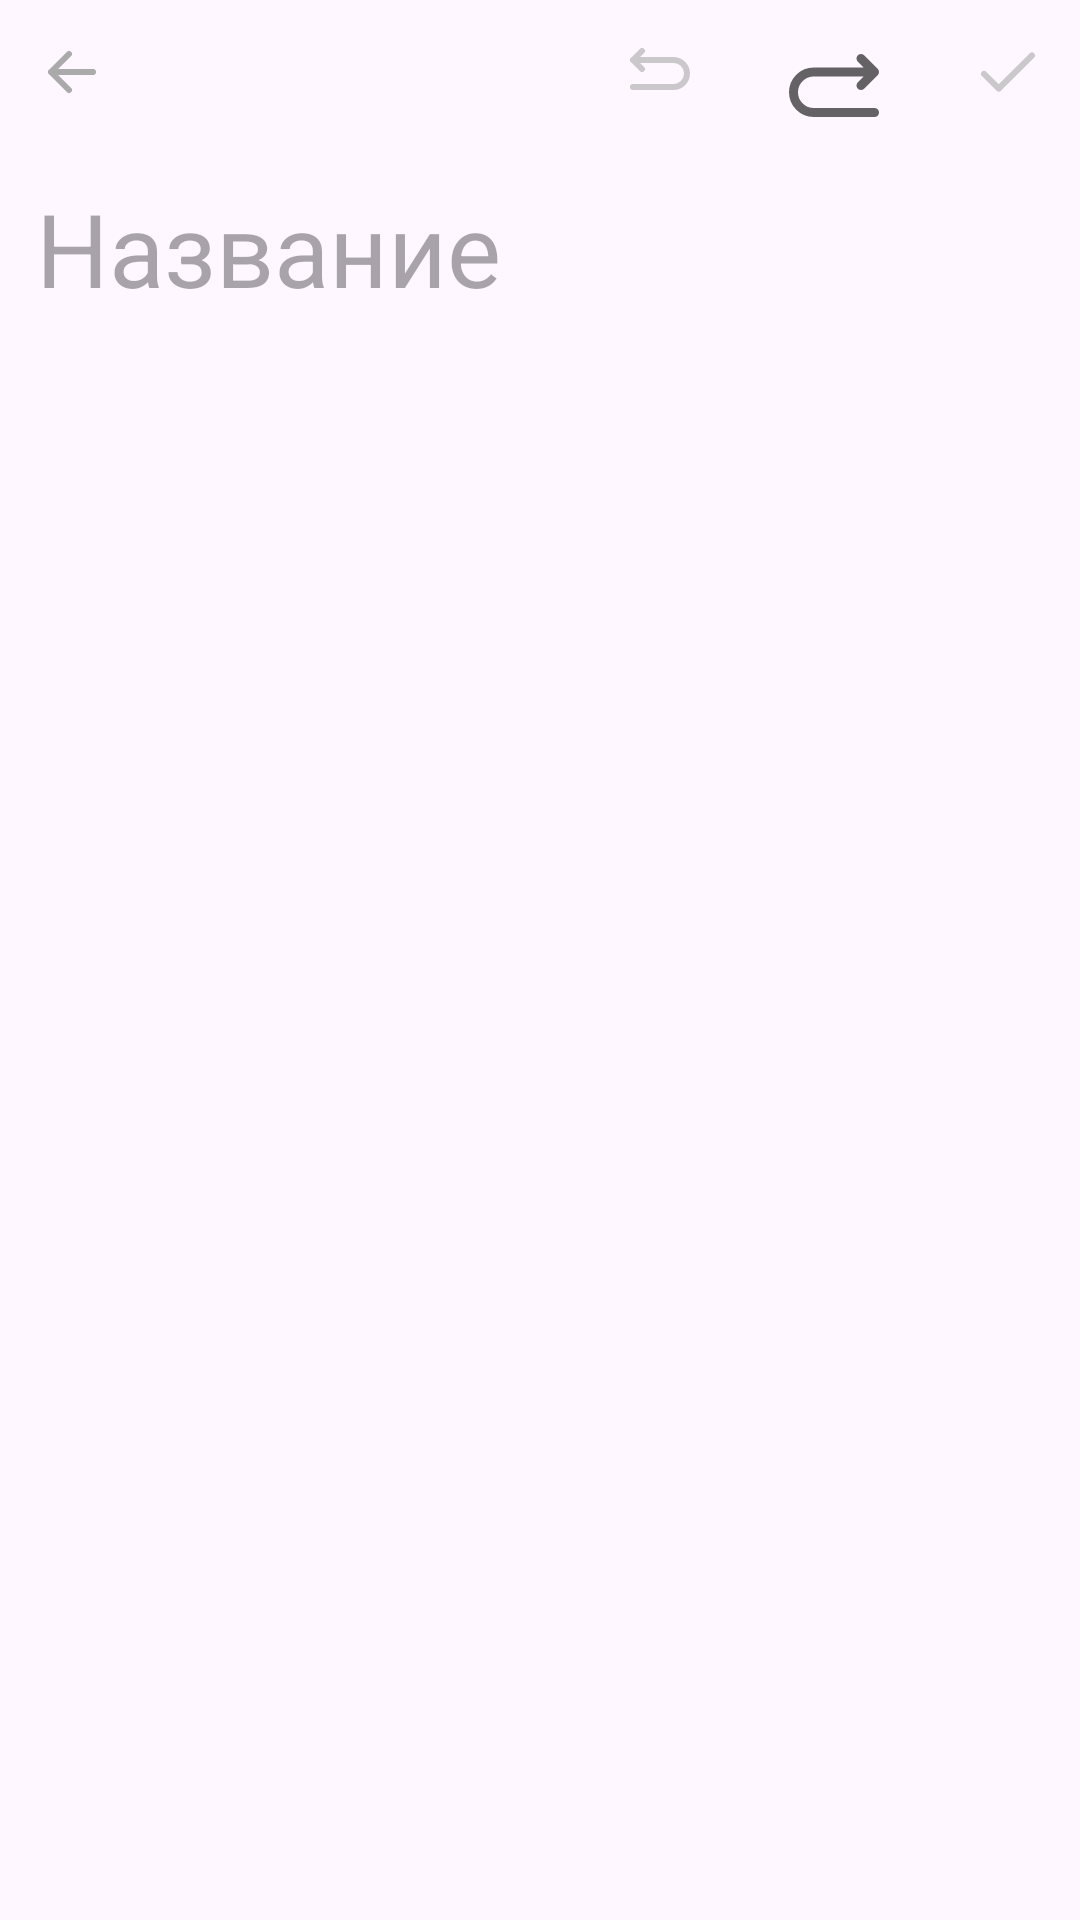

Icons on this 1080 × 1920 Android screen, each with the point to tap as (x,y):
back: (72,72)
backward: (660,69)
forward: (834,85)
save: (1008,72)
